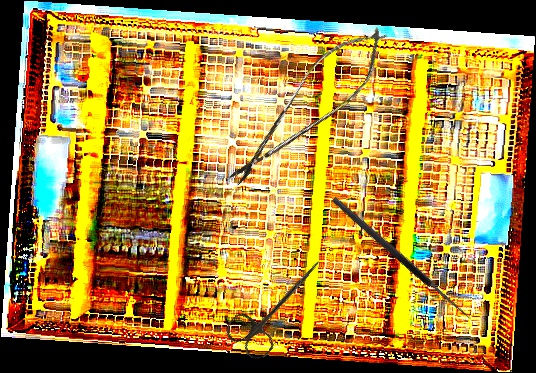Hook Surgical: (330, 189, 480, 322)
Iris Scissors: (221, 243, 336, 365)
Micro Scissor: (213, 9, 404, 205)
